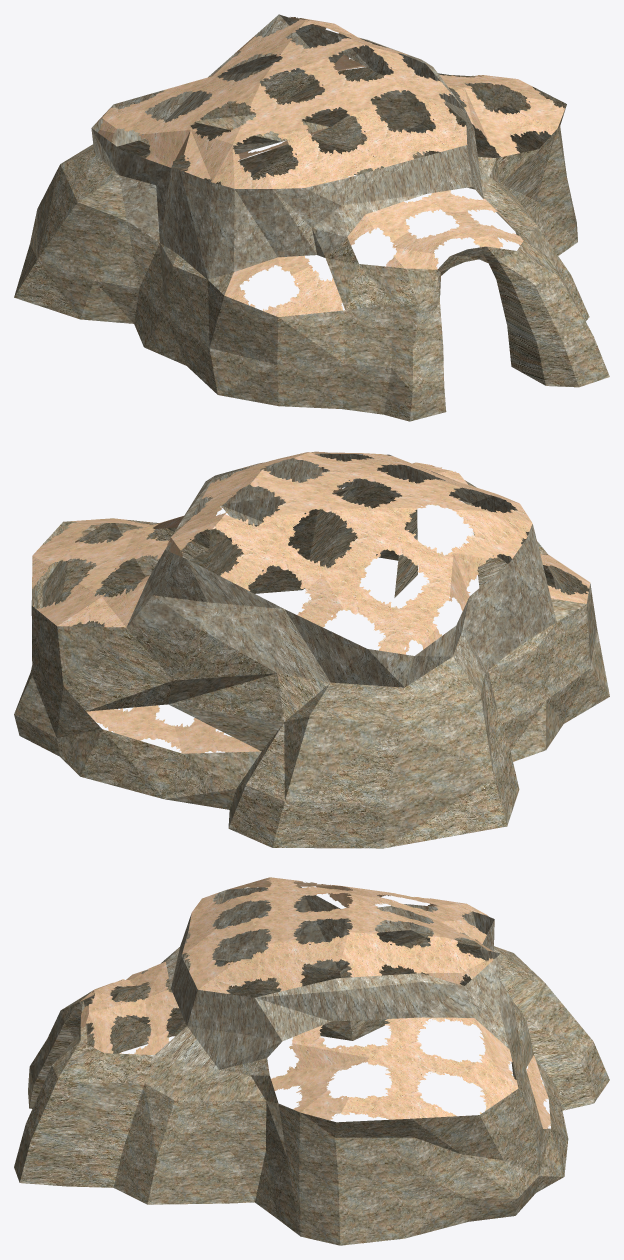
File: poi_all_lair_cave_small_light_r0_mesh_l3.fbx
The picture shows the model from 3 angles, top to bottom: view 1: azimuth 30°, elevation 25°; view 2: azimuth 150°, elevation 25°; view 3: azimuth 270°, elevation 25°; orthographic projection. The views are drawn at different scales.
Visible parts, largest first — view 1: mesh_node; view 2: mesh_node; view 3: mesh_node.
Part boxes in pixels (box(x1,y1,x2,y2)): mesh_node: box(14, 14, 609, 421); mesh_node: box(14, 451, 609, 848); mesh_node: box(14, 877, 609, 1245).
Bounding box in the file's own units: 24.53 × 10.55 × 26.37.
